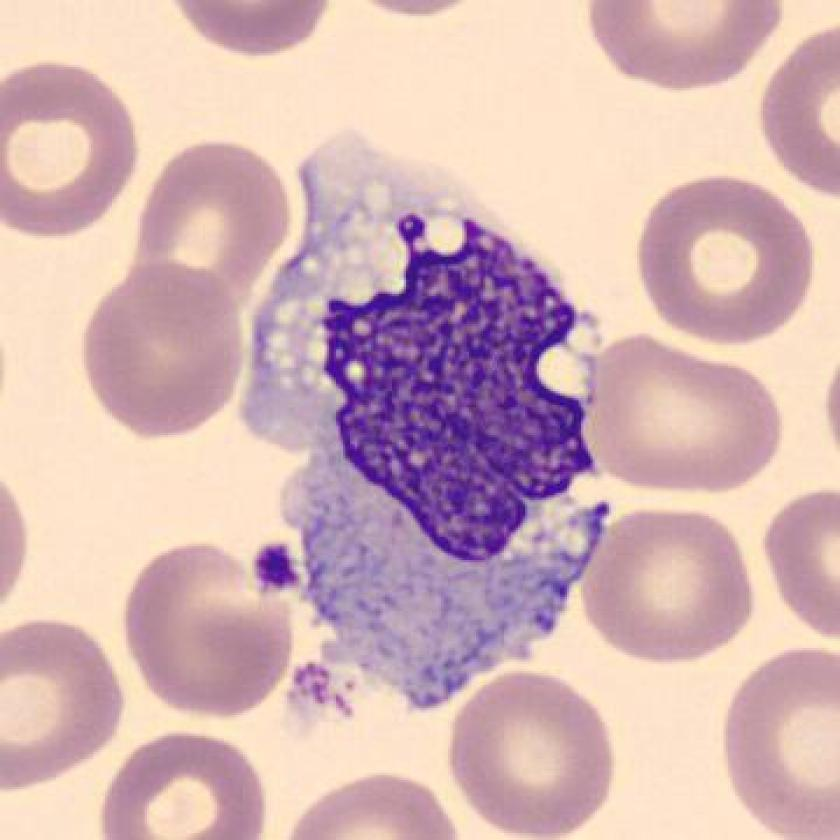monocyte: (213, 110, 631, 732)
